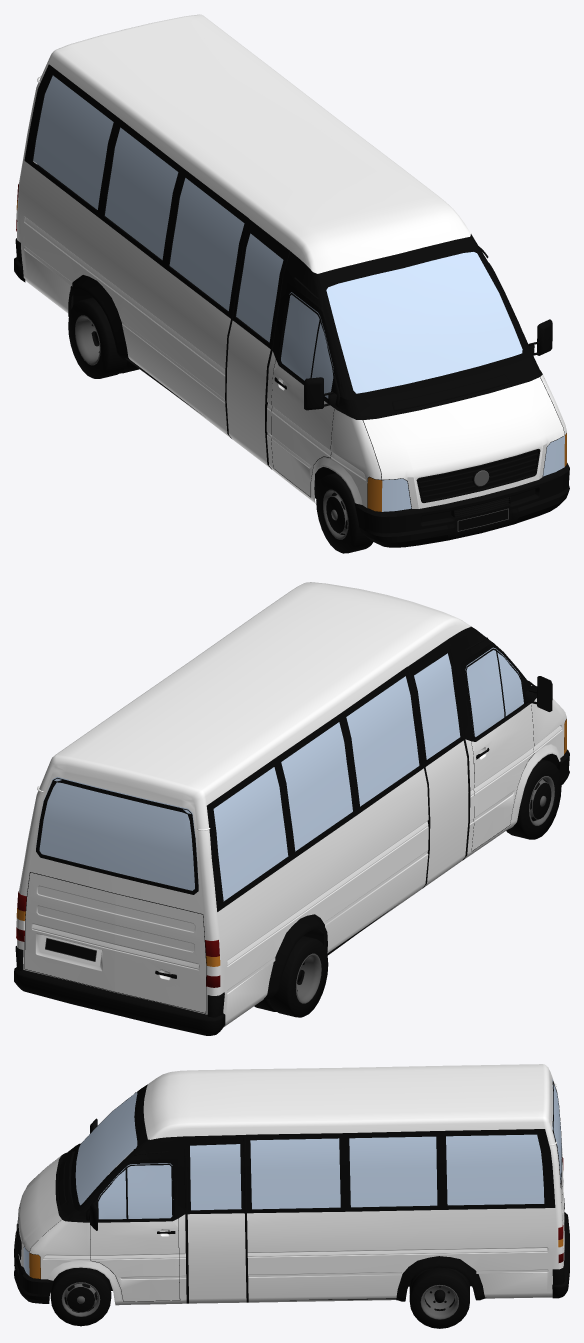
Rendered from HUOCHE.FBX.
3 views of the same model, one above another, from view 1: azimuth 30°, elevation 25°; view 2: azimuth 150°, elevation 25°; view 3: azimuth 270°, elevation 25° (orthographic). The views are drawn at different scales.
Parts seen in each view (by area): view 1: body, glass, plastic, body_blk, glassblk, Object020, Object002, Object001, headlght; view 2: body, glass, plastic, body_blk, Object002, Object001, Object020, rearlght, nplate; view 3: body, glass, body_blk, plastic, Object003, Object004, glassblk, Object020, interior, Object015.
Part boxes in pixels (box(x1,y1,x2,y2)): body: box(17, 14, 566, 508); glass: box(33, 75, 522, 398); plastic: box(14, 219, 569, 547); body_blk: box(24, 64, 542, 420); glassblk: box(318, 237, 528, 399); Object020: box(70, 269, 566, 522); Object002: box(68, 297, 139, 378); Object001: box(316, 473, 372, 553); headlght: box(382, 436, 564, 511); body: box(17, 582, 566, 1027); glass: box(36, 647, 523, 901); plastic: box(14, 639, 569, 1035); body_blk: box(206, 626, 537, 911); Object002: box(254, 936, 328, 1017); Object001: box(506, 759, 561, 839); Object020: box(24, 643, 566, 1013); rearlght: box(16, 891, 220, 987); nplate: box(45, 938, 96, 961); body: box(18, 1064, 564, 1305); glass: box(75, 1079, 561, 1219); body_blk: box(55, 1092, 555, 1222); plastic: box(14, 1081, 569, 1303); Object003: box(409, 1267, 469, 1328); Object004: box(50, 1267, 111, 1326); glassblk: box(71, 1084, 147, 1210); Object020: box(23, 1158, 562, 1301); interior: box(69, 1151, 543, 1210); Object015: box(61, 1282, 100, 1316).
Size of the model in its own units: 60.33 by 62.7 by 157.
